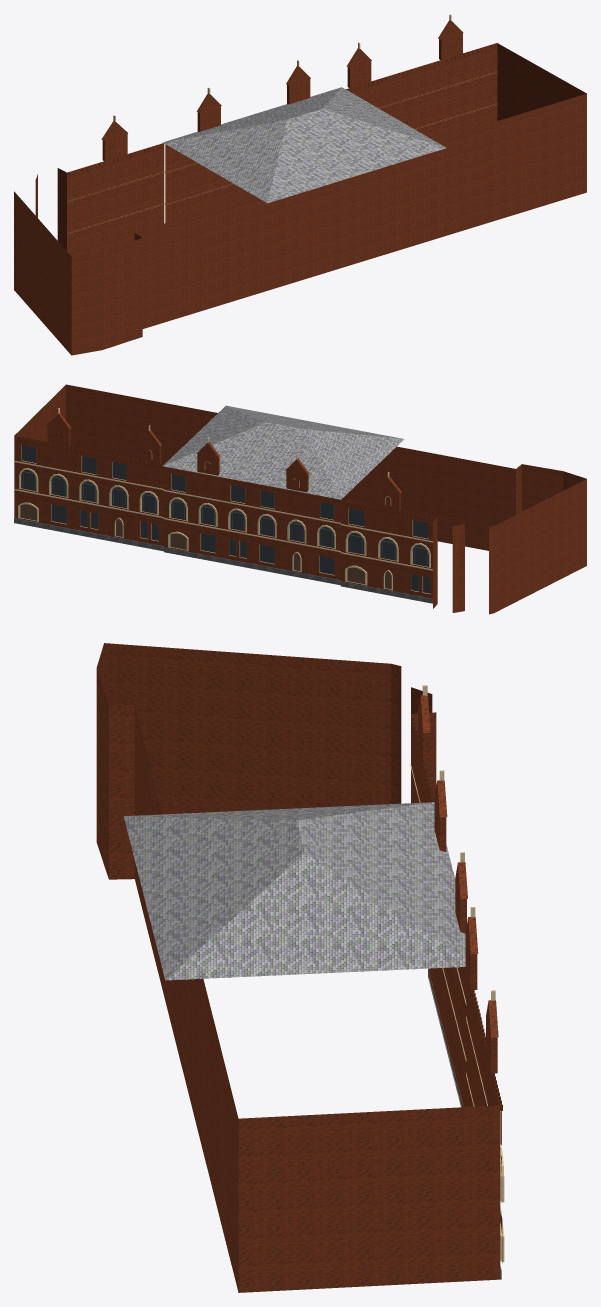
3 views of the same model, one above another, from view 1: azimuth 30°, elevation 25°; view 2: azimuth 150°, elevation 25°; view 3: azimuth 270°, elevation 25° (orthographic). The views are drawn at different scales.
Parts seen in each view (by area): view 1: bldg_432190363_landmark; view 2: bldg_432190363_landmark; view 3: bldg_432190363_landmark.
Boxes of the visible parts, bbox=[...] form: bldg_432190363_landmark: bbox=[14, 14, 586, 355]; bldg_432190363_landmark: bbox=[14, 384, 586, 614]; bldg_432190363_landmark: bbox=[96, 643, 504, 1292].
Size of the model in its own units: 59.7 by 14.45 by 21.63.
Materials: 9 (5 with a texture image).
